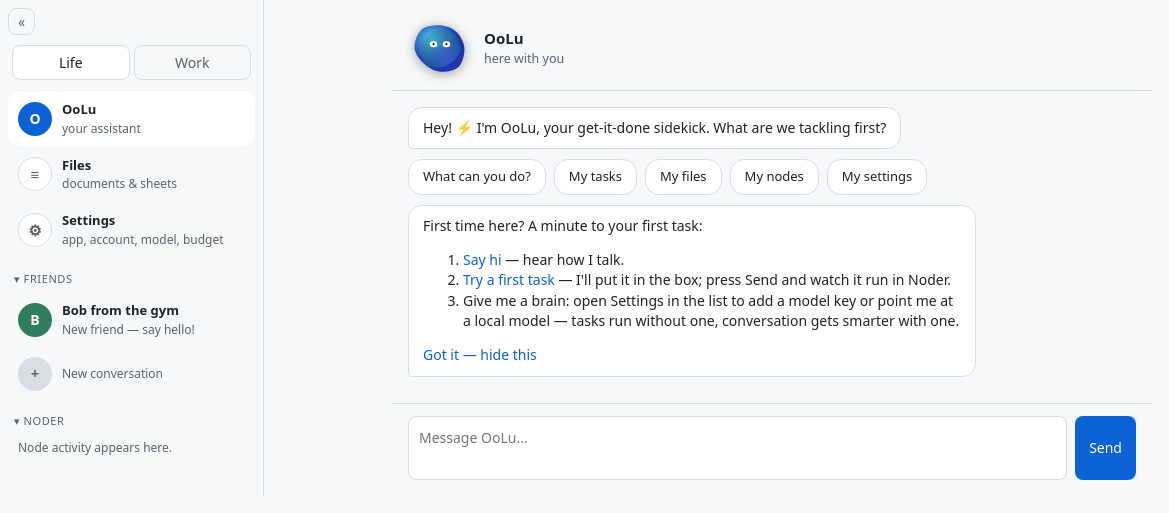
Test: friend memory: name notes and the thread header › wears the note in the list and the header — username kept honest
// The list shows the user's own note instead of the bare username.
Click the text "Bob from the gym" at (128, 311), box x1=62 y1=301 x2=195 y2=320
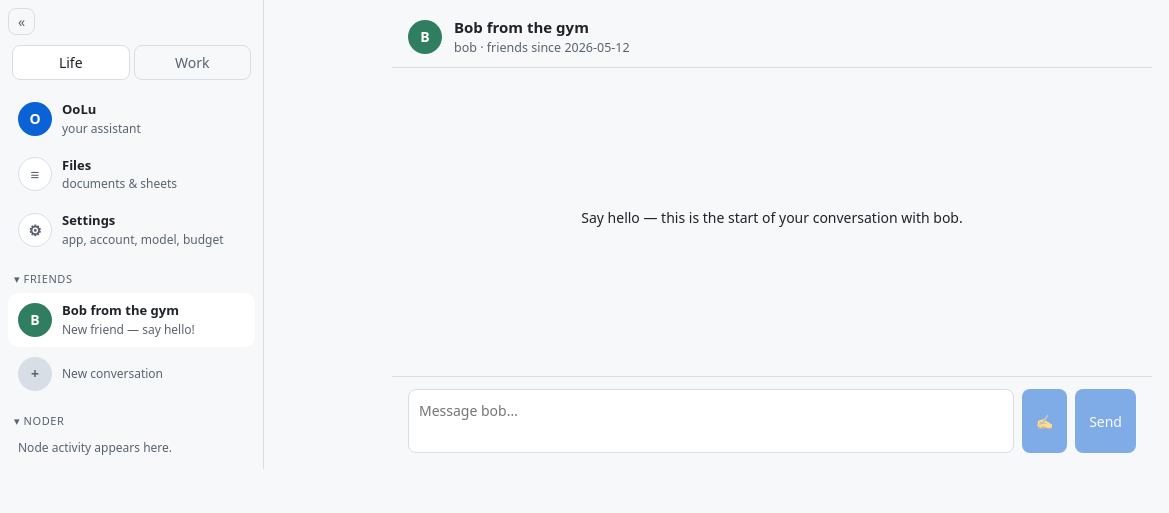
Expected: the text with class "chat-head-name" reads "Bob from the gym", x1=454 y1=17 x2=589 y2=37
Expected: the text with class "chat-head-sub" shows "bob", x1=454 y1=38 x2=630 y2=56
Expected: the text with class "chat-head-sub" shows "friends since 2026-05-12", x1=454 y1=38 x2=630 y2=56
